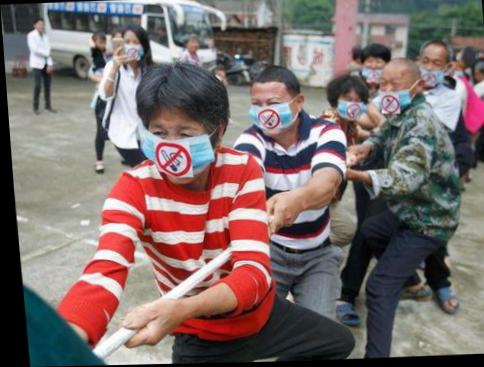OK: (333, 92, 365, 122), (121, 37, 145, 61)
WRONG: (142, 114, 219, 188), (251, 94, 299, 140), (378, 79, 417, 115), (416, 59, 448, 90), (360, 59, 387, 84)
